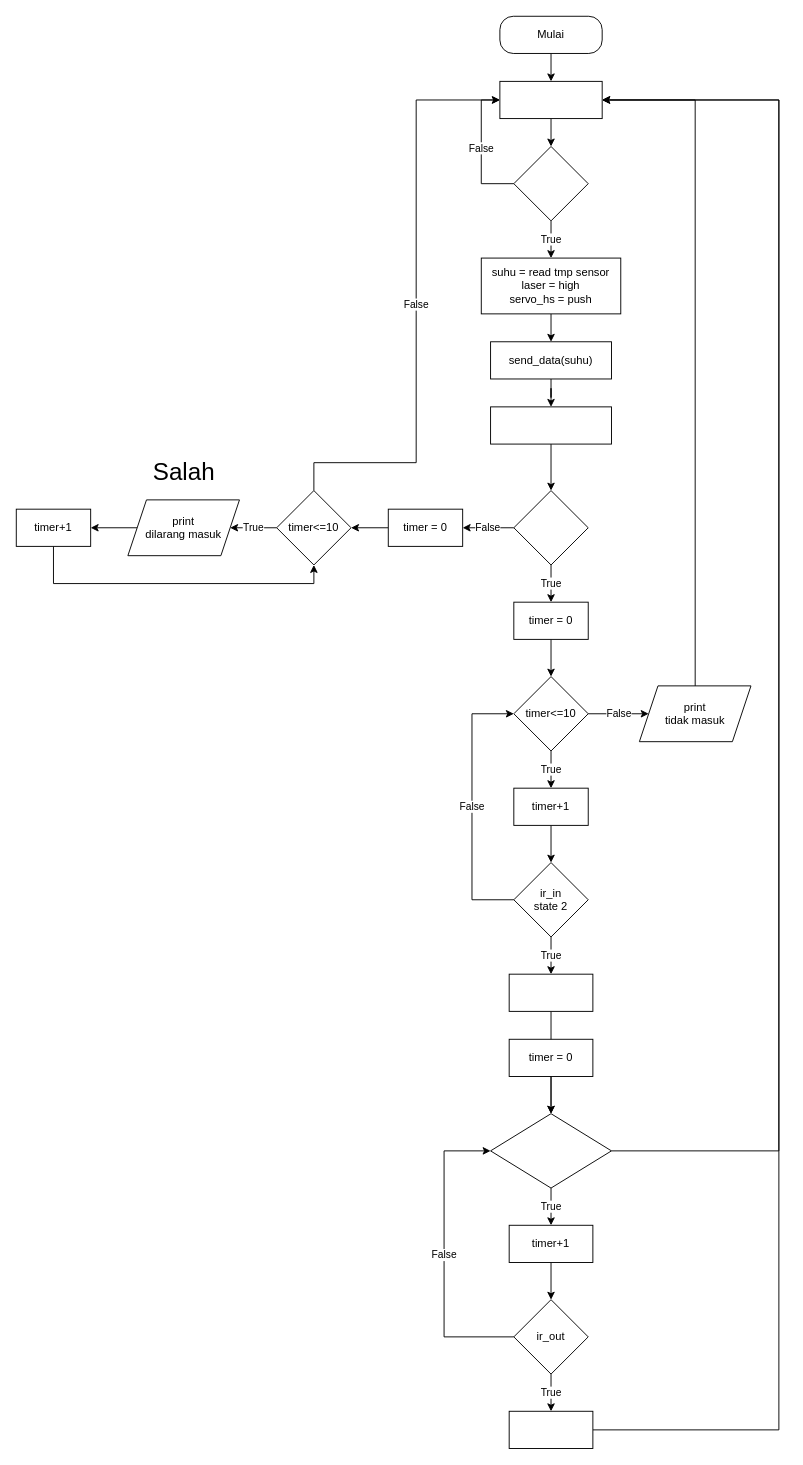
Some shapes in this 803 by 1465 pixel diagram are drawn without their labels. The box of each missing label's shape, as (x1, y1, x2, y2) in pixels:
door = false: (508, 1410, 593, 1448)
door = true: (508, 973, 593, 1011)
ir_hs: (513, 146, 588, 221)
read_data(masker): (490, 406, 611, 444)
standby: (499, 80, 602, 119)
timer<=10 or ir_in: (490, 1113, 611, 1188)
use masker state 1: (513, 490, 588, 565)
